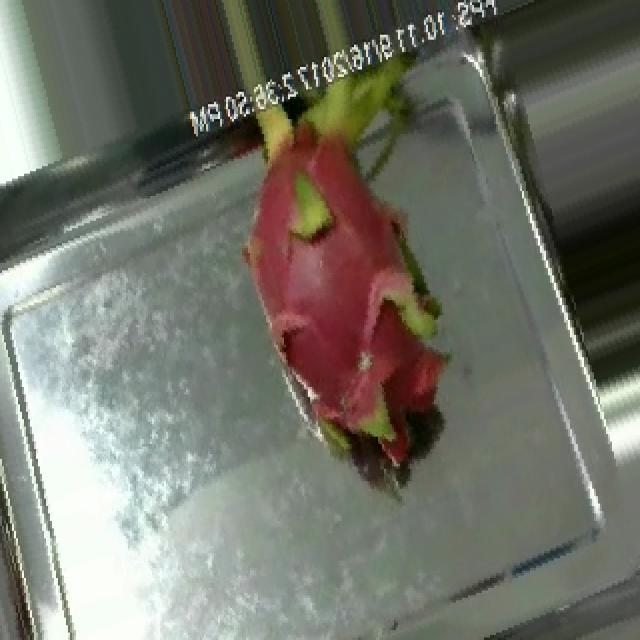fruit: (180, 25, 498, 459)
